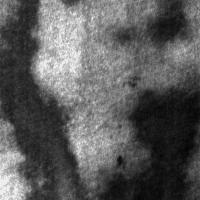patches: (1, 2, 80, 199), (104, 89, 200, 199), (96, 149, 158, 200), (148, 1, 186, 43)
